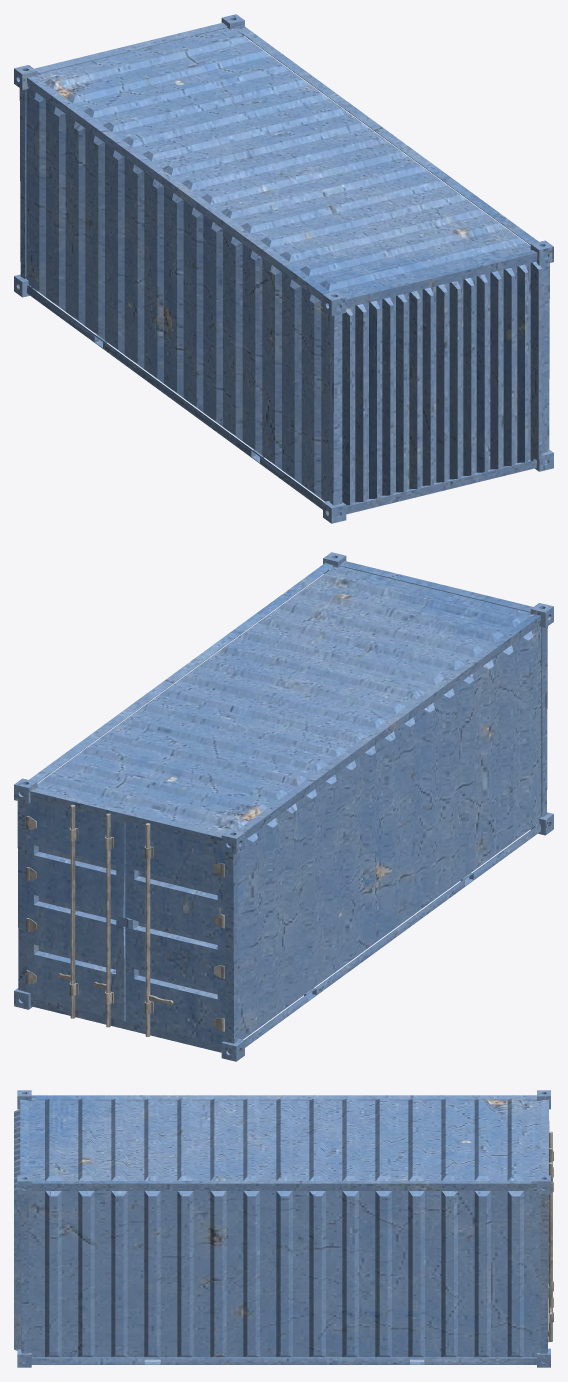
File: ContainerClosed.fbx
3 views of the same model, one above another, from view 1: azimuth 30°, elevation 25°; view 2: azimuth 150°, elevation 25°; view 3: azimuth 270°, elevation 25° (orthographic). The views are drawn at different scales.
Visible parts, largest first — view 1: Container; view 2: Container; view 3: Container.
Boxes of the visible parts, x1,y1,x2,y2 form: Container: [14, 14, 553, 523]; Container: [14, 552, 553, 1061]; Container: [14, 1090, 553, 1367].
Size of the model in its own units: 5.19 by 4.96 by 12.96.
4 materials, 4 textured.
